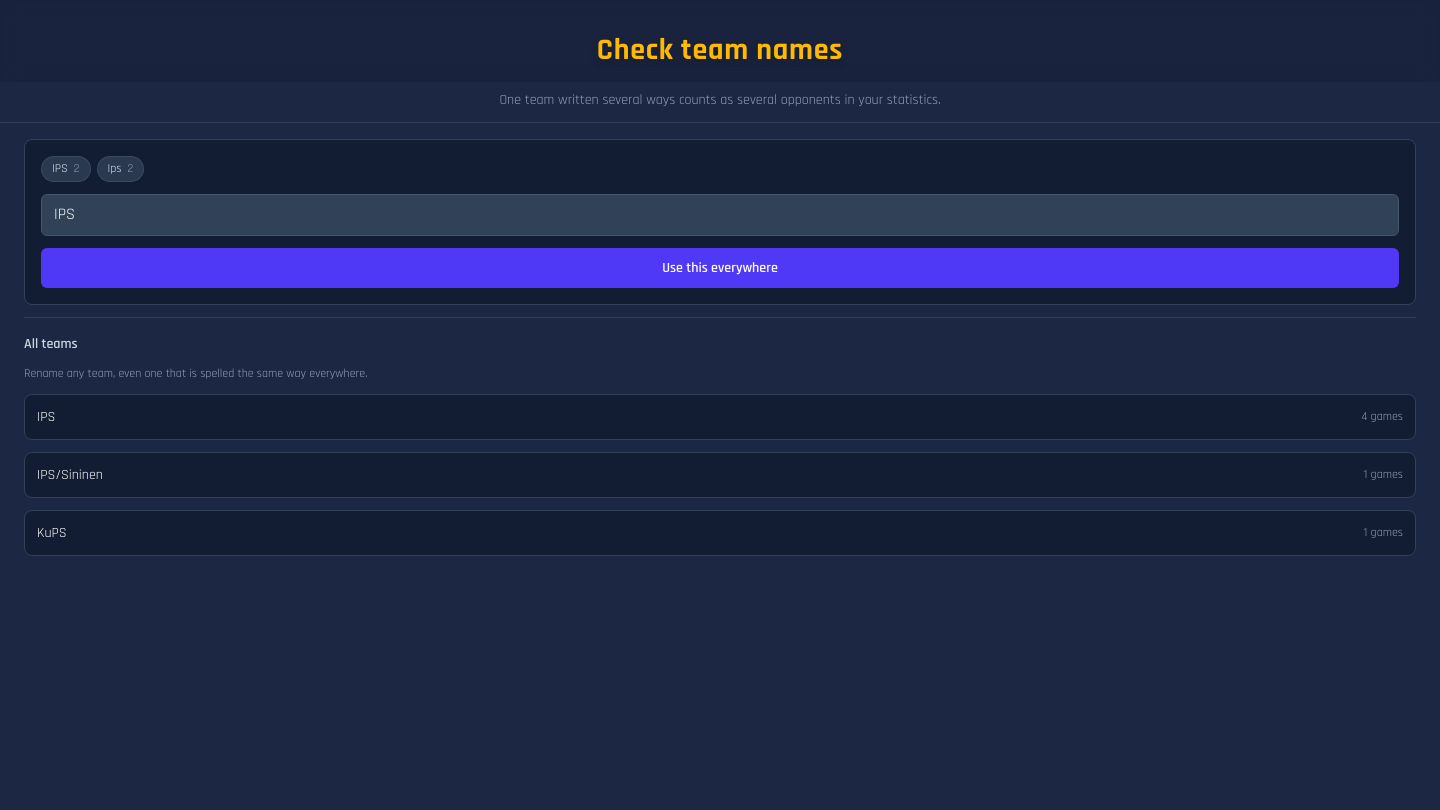
Test: OpponentNameSweepModal › drops the group once it is resolved
Click the button with test id "opponent-sweep-apply-ips".
click(720, 268)  # box [41,248,1399,288]
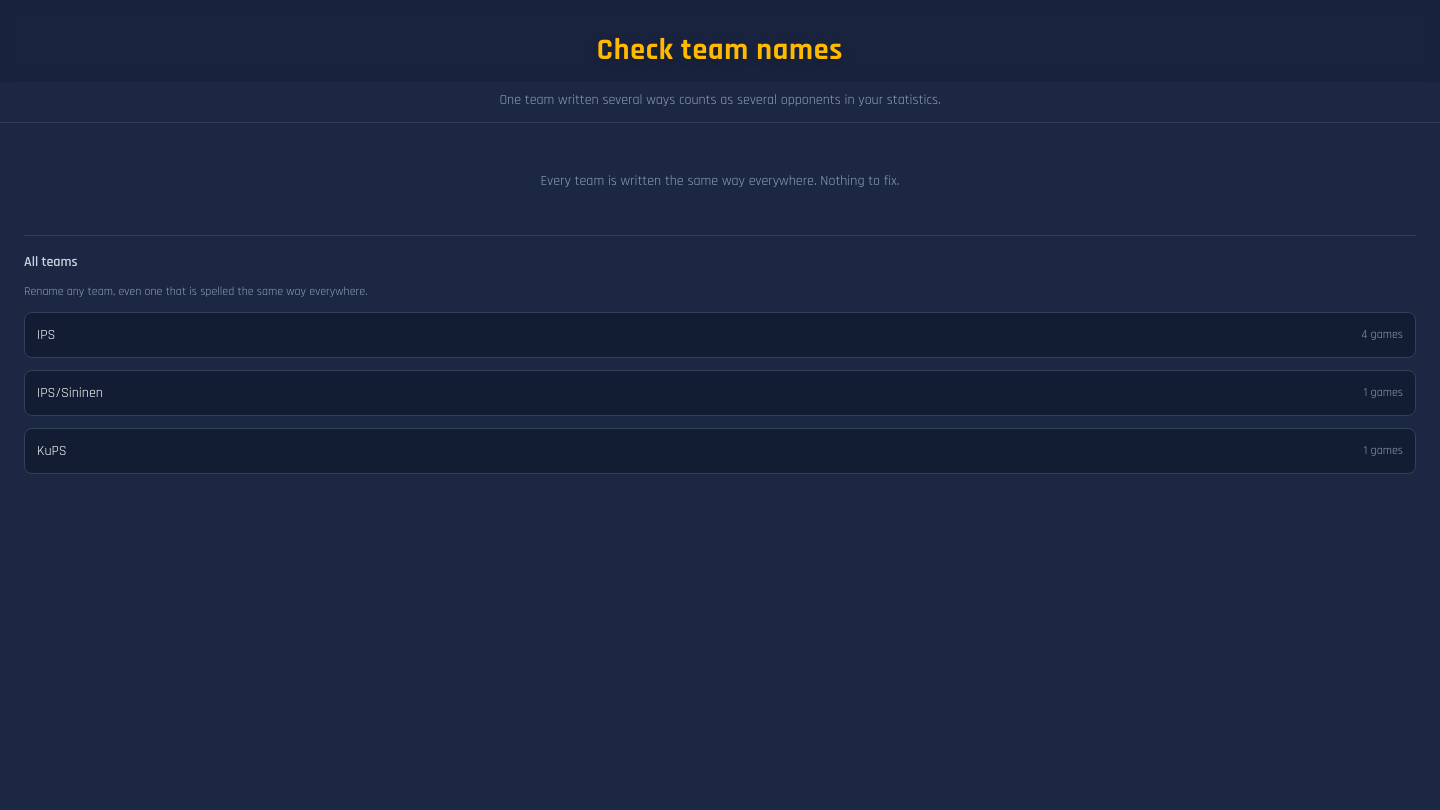
Expected: the element with test id "opponent-sweep-group-ips" is gone
Expected: the text with test id "opponent-sweep-clean" is shown, [541,172,899,190]
